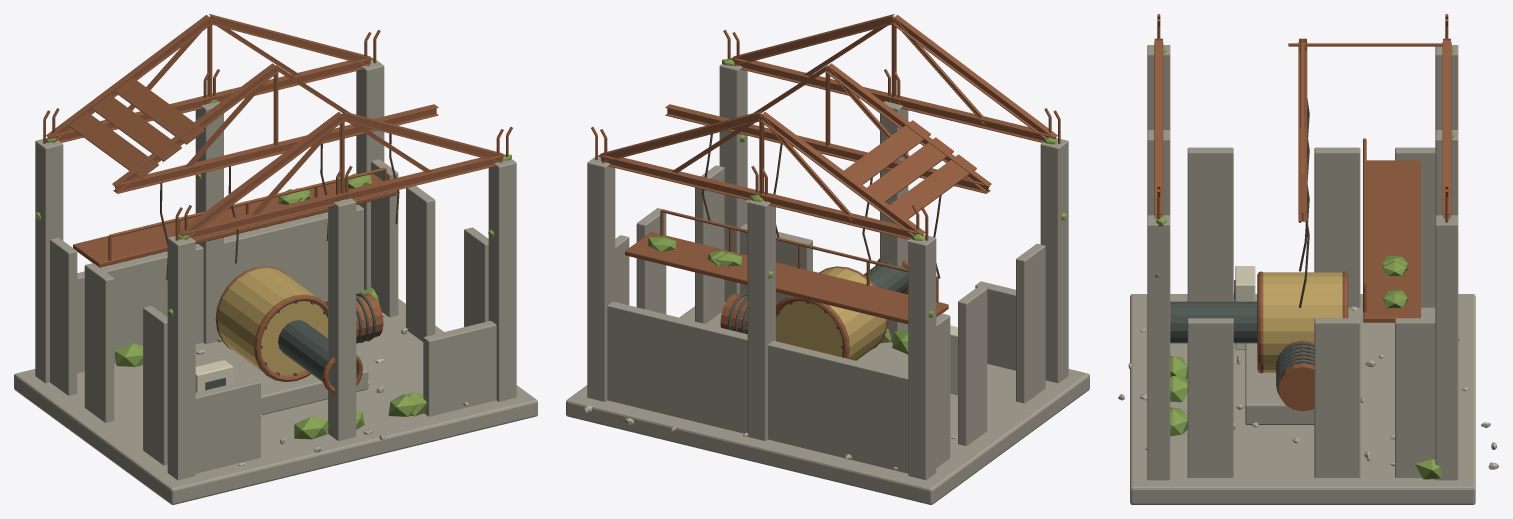
File: Ruined_Pump_House_Revival.glb
The picture shows the model from 3 angles, left to right: view 1: azimuth 30°, elevation 25°; view 2: azimuth 150°, elevation 25°; view 3: azimuth 270°, elevation 25°; orthographic projection. The views are drawn at different scales.
Visible parts, largest first — view 1: Structure, Growth; view 2: Structure, Growth; view 3: Structure, Growth.
Boxes of the visible parts, left/top/right/bottom form: Structure: left=14, top=14, right=537, bottom=504; Growth: left=35, top=99, right=511, bottom=439; Structure: left=566, top=14, right=1089, bottom=504; Growth: left=648, top=59, right=1067, bottom=354; Structure: left=1118, top=14, right=1498, bottom=504; Growth: left=1155, top=46, right=1453, bottom=479.
Bounding box in the file's own units: 16 × 14.14 × 13.23.
